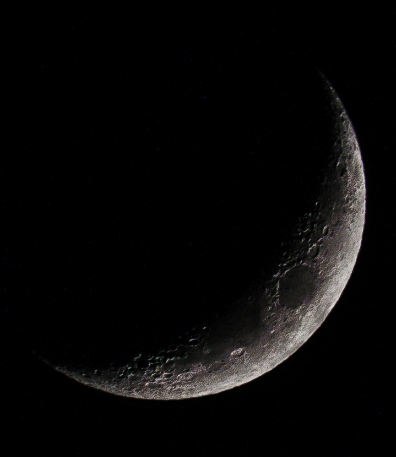crater: (269, 262, 322, 316), (333, 152, 351, 179), (226, 346, 252, 362), (304, 240, 323, 257), (184, 335, 202, 347), (180, 365, 194, 379)
